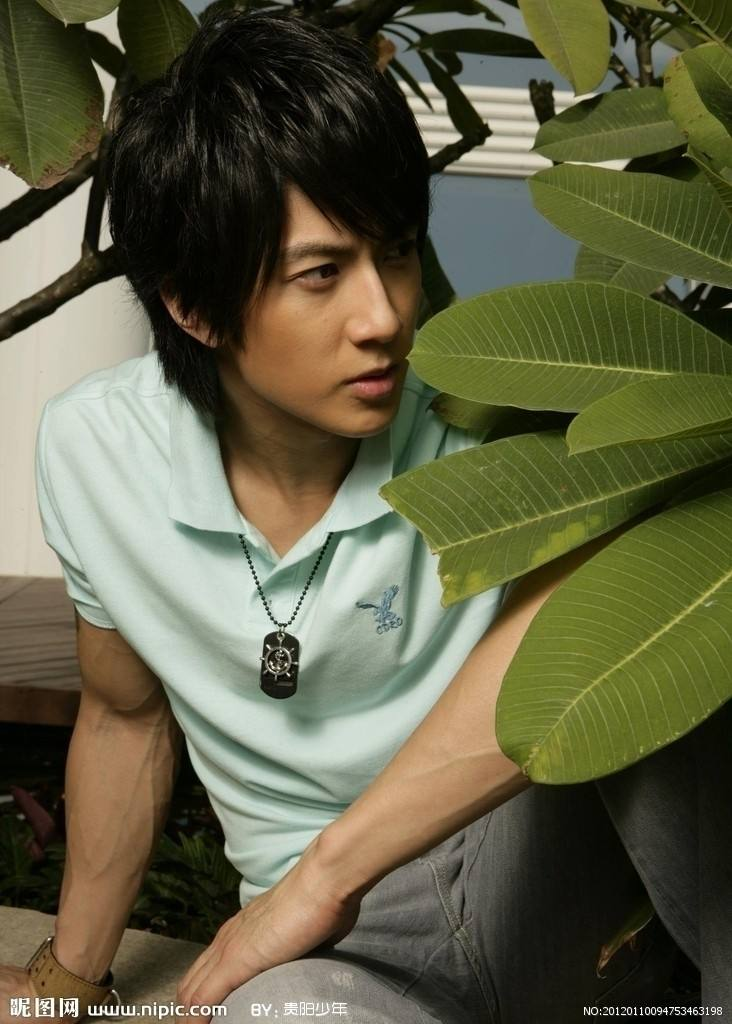person: (55, 57, 597, 859)
